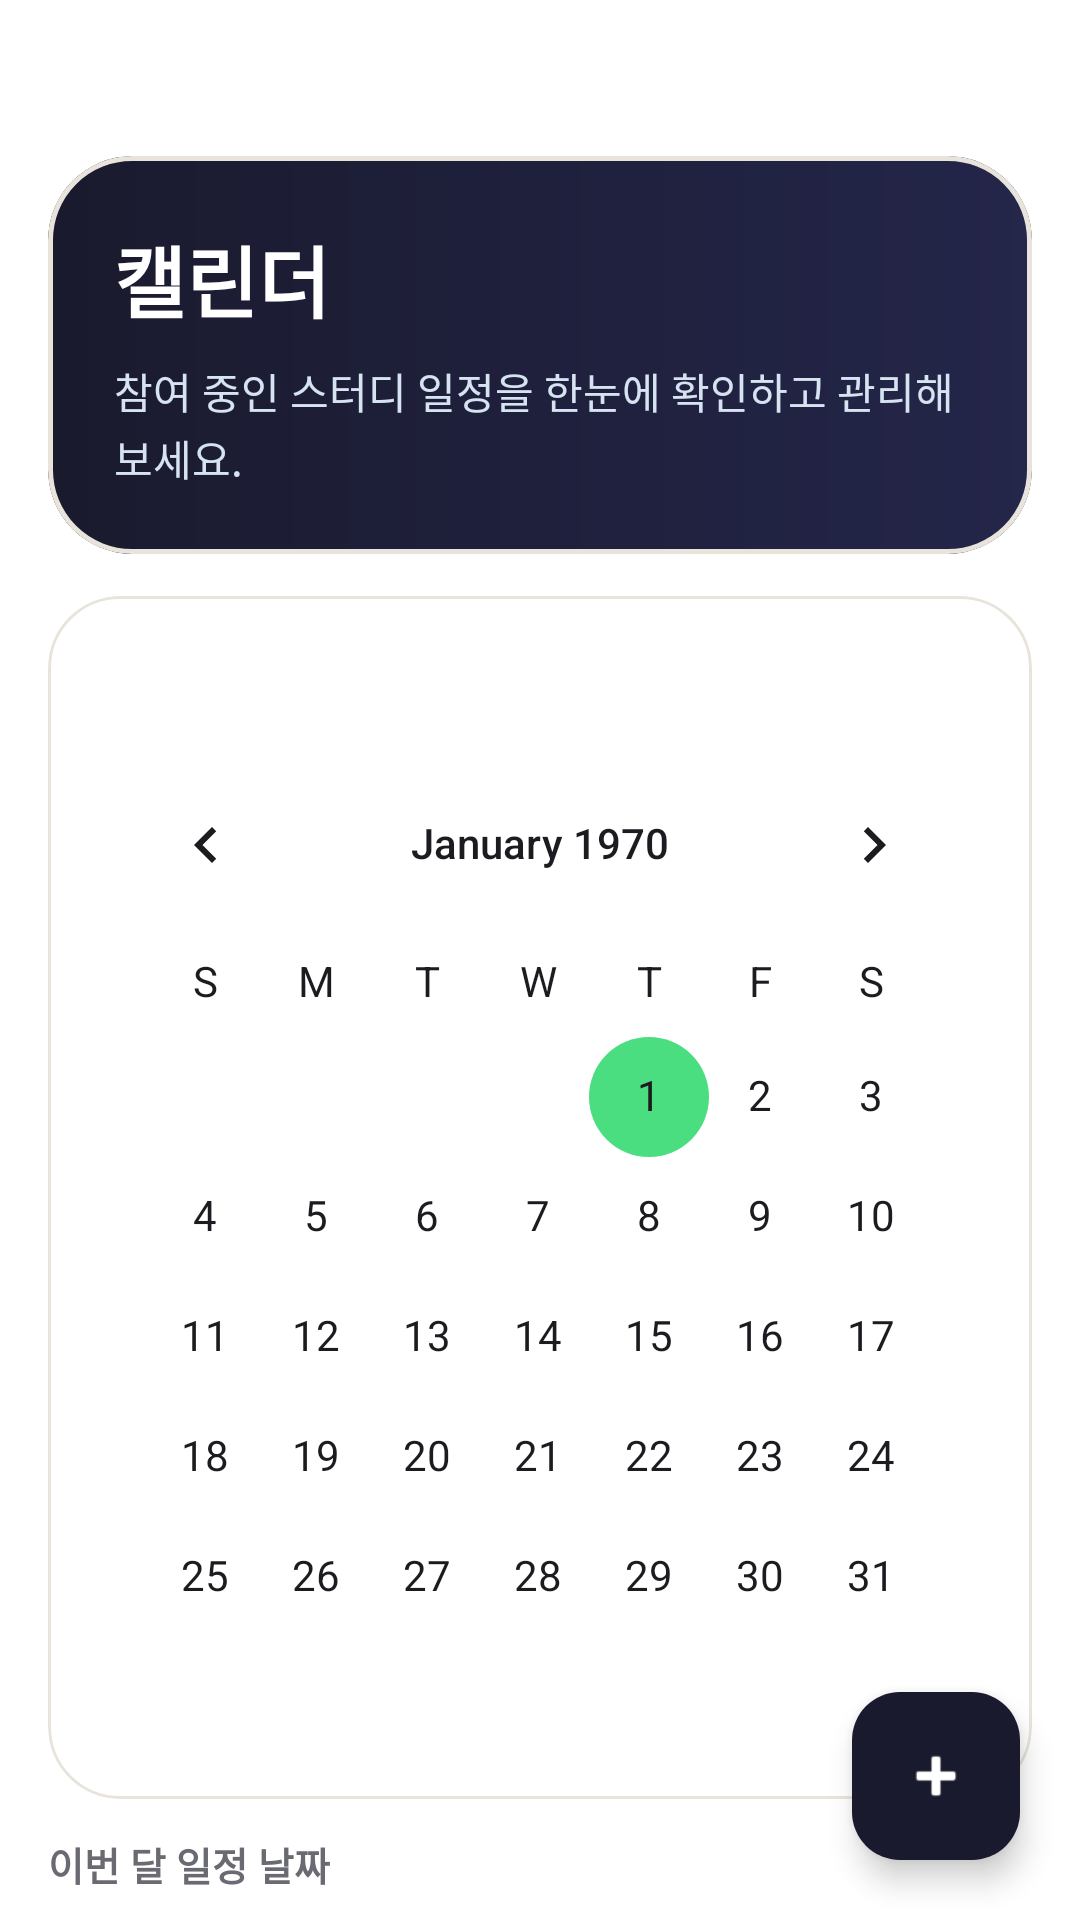

Screen size 1080 × 1920. Icon name, then its center in pixels as (x=x, y=y):
일정 추가: (x=936, y=1776)
